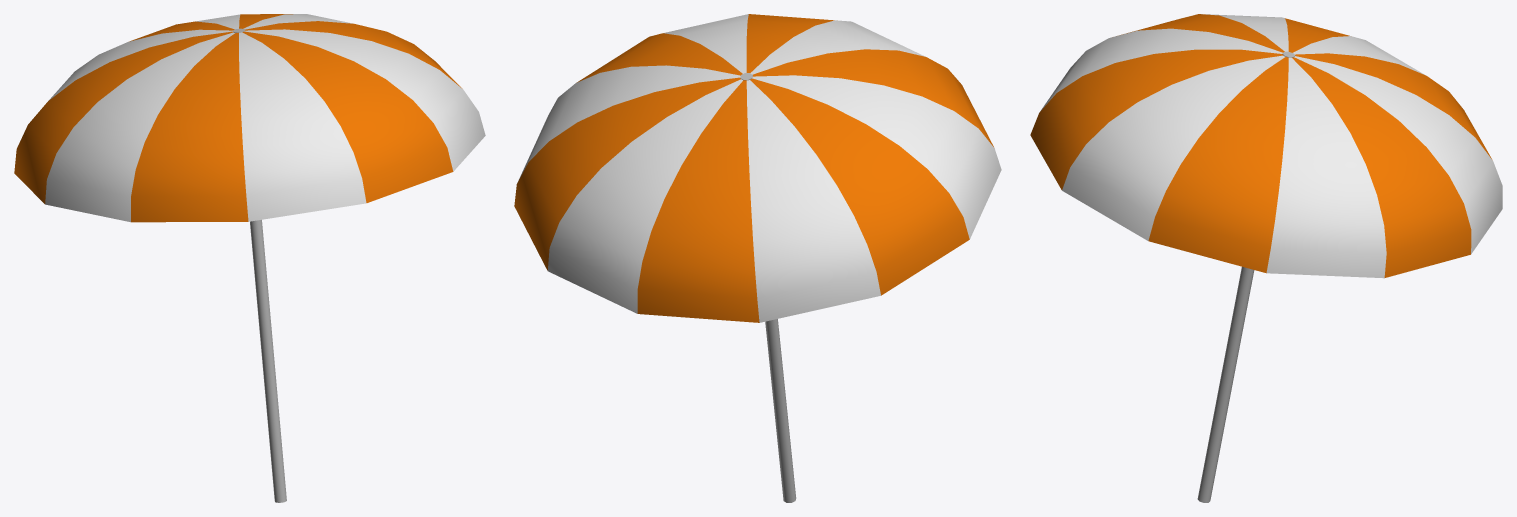
The model's file is PARASOL.fbx.
3 views of the same model, side by side, from view 1: azimuth 30°, elevation 25°; view 2: azimuth 150°, elevation 25°; view 3: azimuth 270°, elevation 25° (orthographic). The views are drawn at different scales.
Visible parts, largest first — view 1: Cylinder; view 2: Cylinder; view 3: Cylinder.
Boxes of the visible parts, bbox=[...] form: Cylinder: bbox=[14, 14, 485, 502]; Cylinder: bbox=[514, 14, 1001, 502]; Cylinder: bbox=[1030, 14, 1502, 502].
Size of the model in its own units: 3.65 by 3.8 by 3.6.
